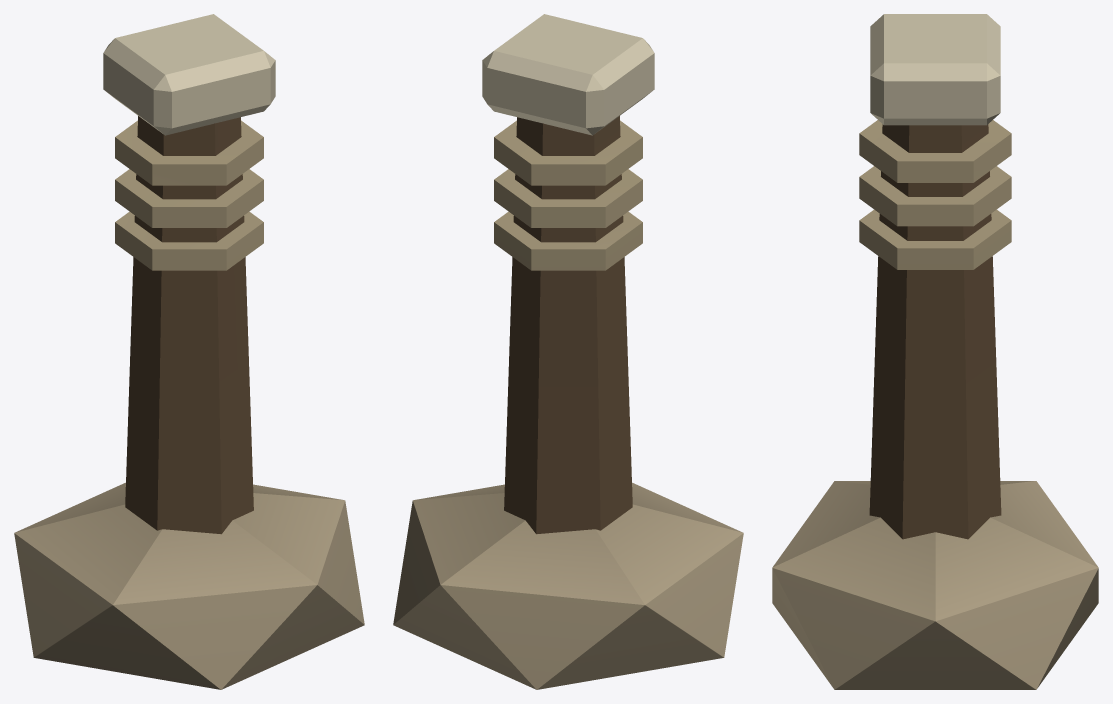
The model's file is passage_marker.glb.
The picture shows the model from 3 angles, left to right: view 1: azimuth 30°, elevation 25°; view 2: azimuth 150°, elevation 25°; view 3: azimuth 270°, elevation 25°; orthographic projection. The views are drawn at different scales.
Parts seen in each view (by area): view 1: passage_marker; view 2: passage_marker; view 3: passage_marker.
Part boxes in pixels (x1,y1,x2,y2): passage_marker: (14, 14, 364, 689); passage_marker: (393, 14, 743, 689); passage_marker: (772, 14, 1098, 689).
Size of the model in its own units: 0.5367 by 1.03 by 0.4764.
